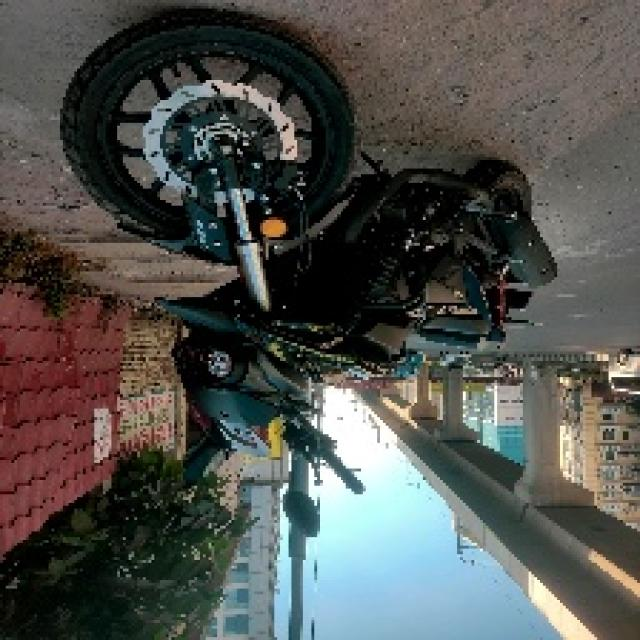bike: (41, 35, 555, 432)
